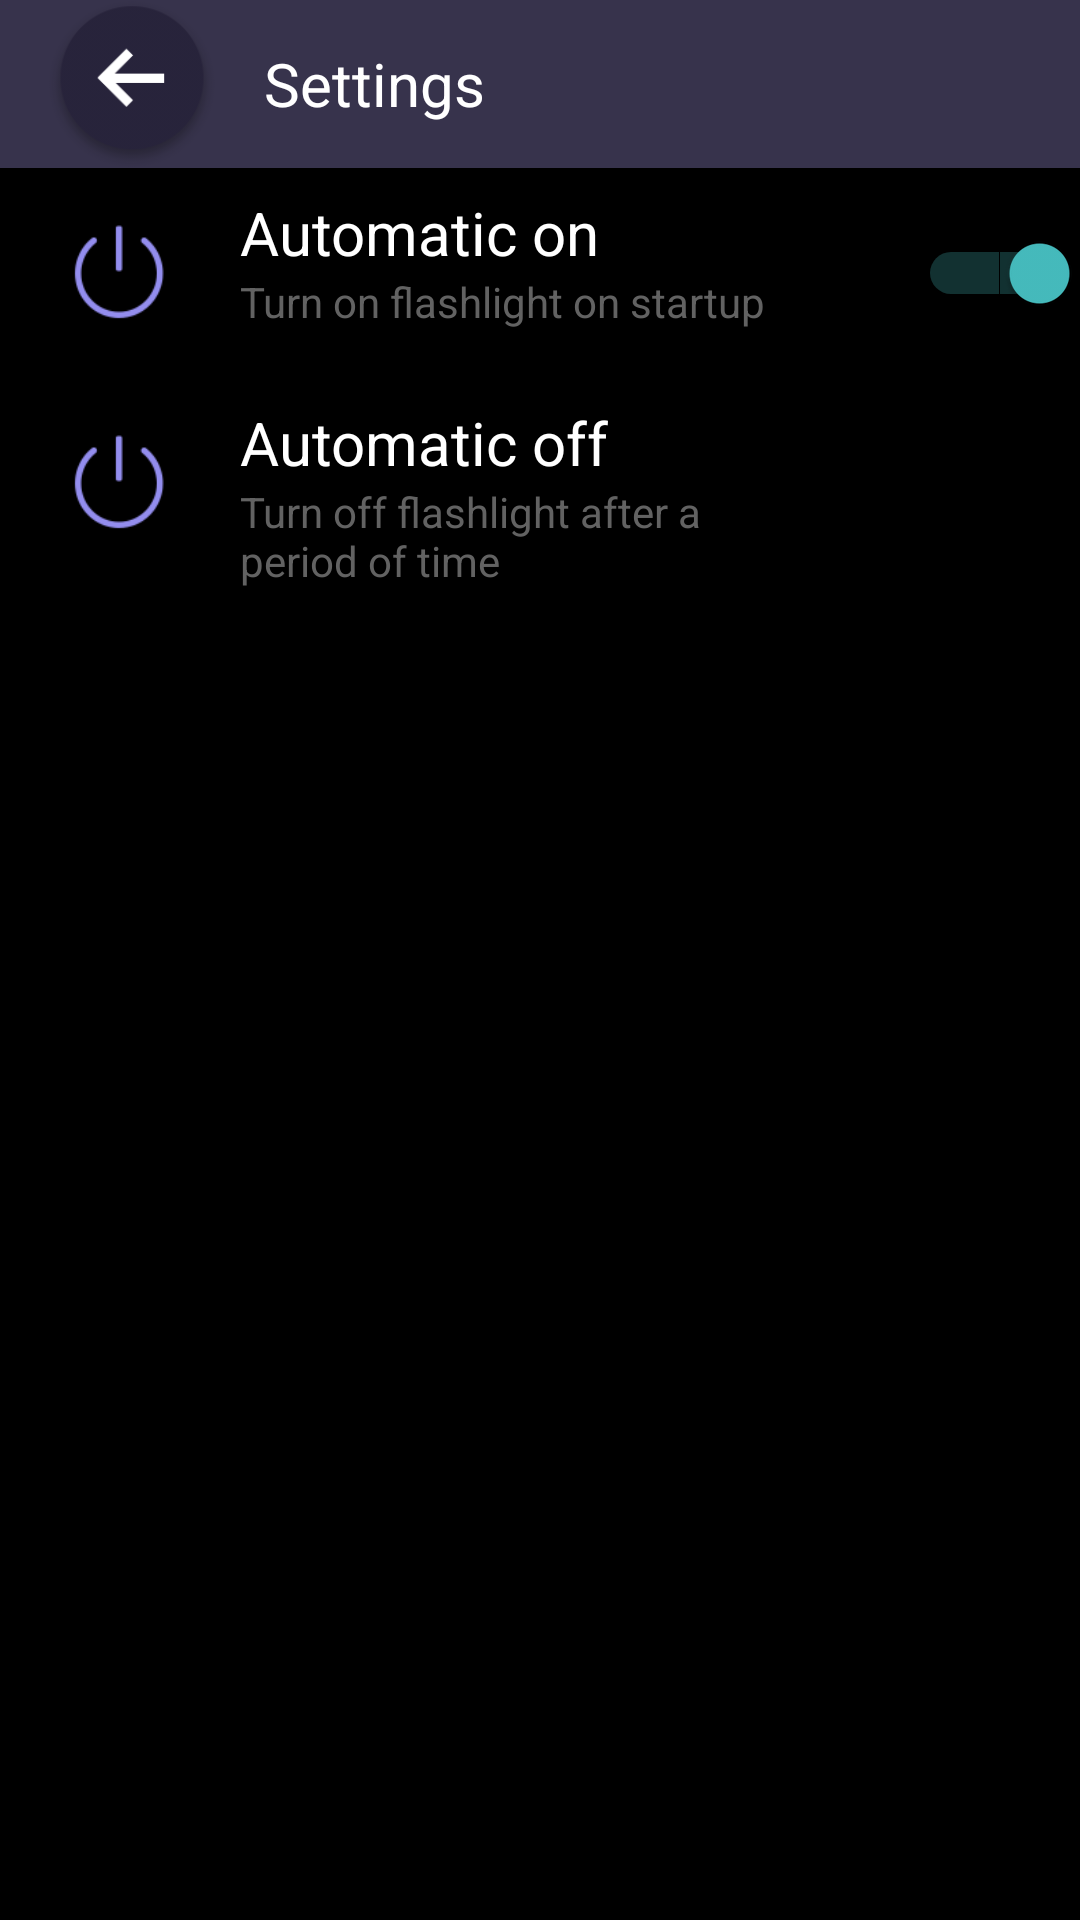

Named icons in this screenshot (1080px×1920px) and their bounding boxes, rect(x1, y1, x2, y2):
back: rect(58, 6, 206, 158)
